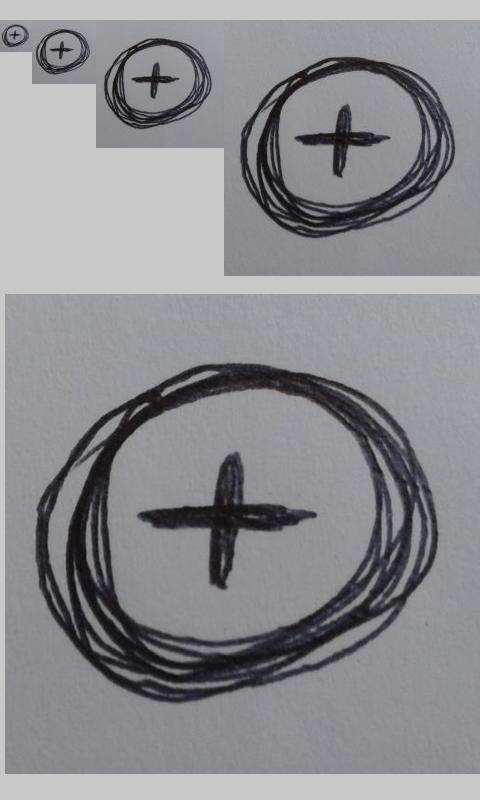button: (35, 361, 440, 703), (241, 55, 456, 239), (104, 38, 213, 130), (37, 29, 89, 75), (3, 25, 27, 46)
